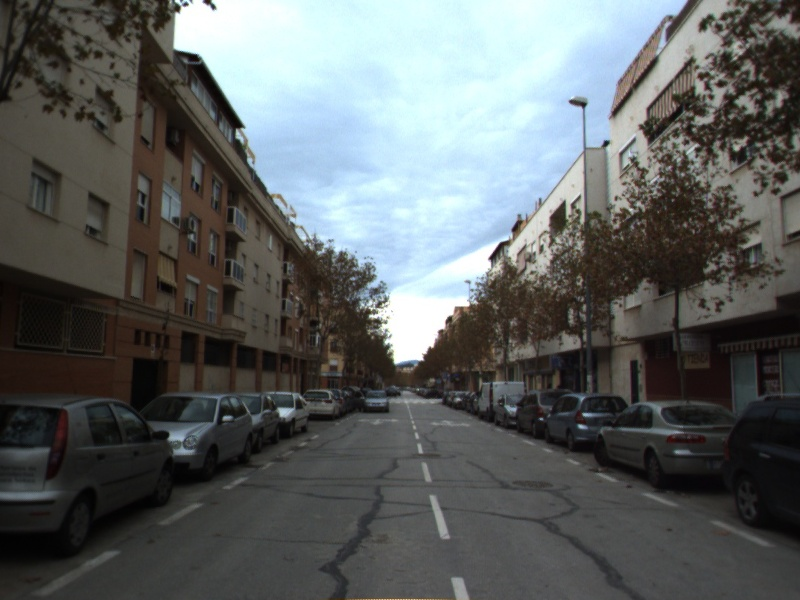STRAIGHT_LEFT_RIGHT: (428, 418, 474, 429)
